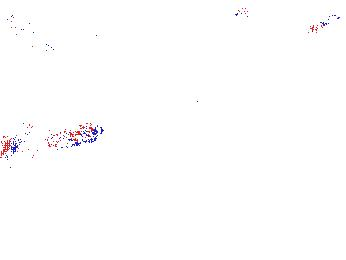X-ray fish: (15, 1, 65, 17)
red belly glassfish: (306, 15, 339, 35), (218, 6, 253, 21)
redtail glassfish: (1, 121, 104, 163), (1, 10, 59, 60), (324, 135, 346, 157)
